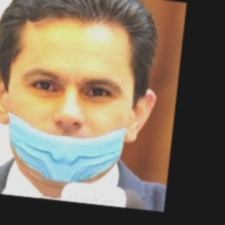mask_weared_incorrect: (9, 12, 130, 182)
